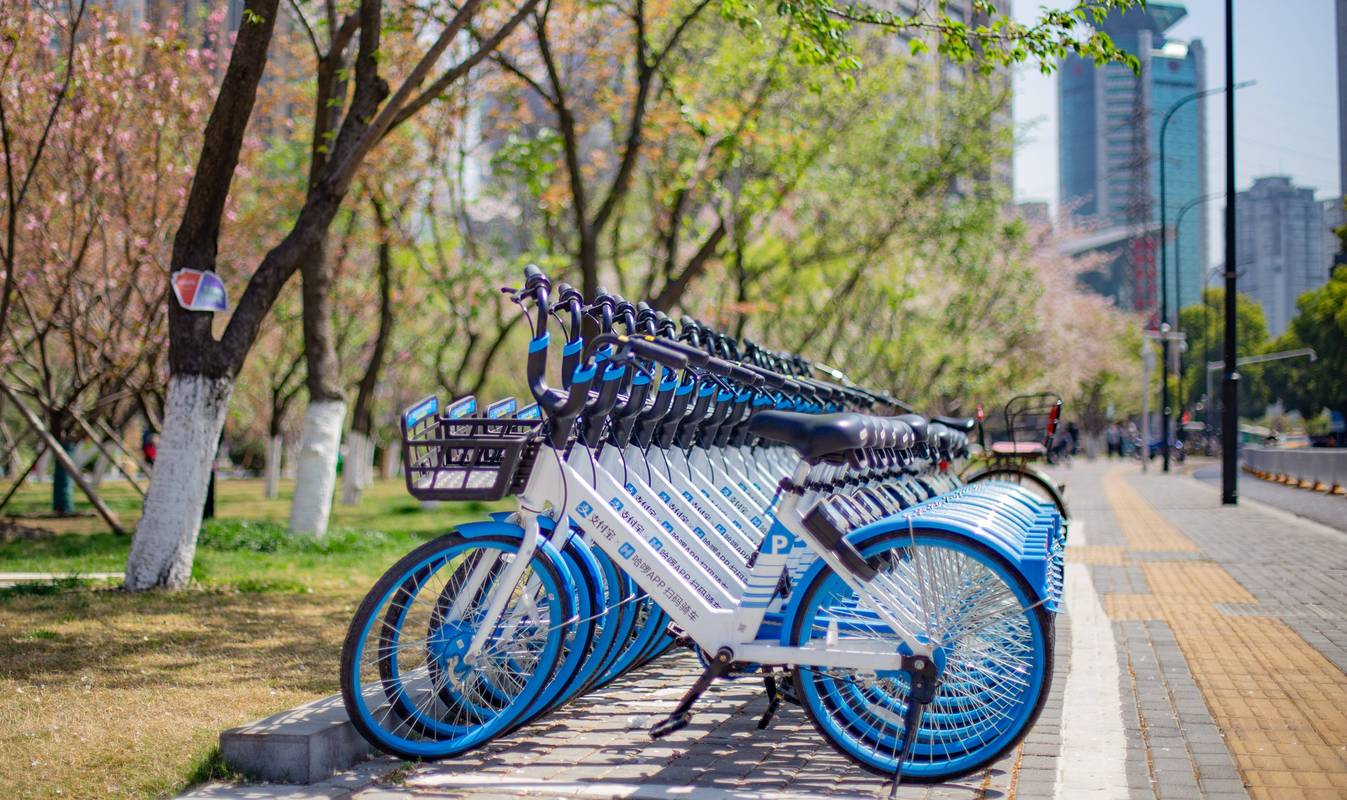单车: (332, 246, 1096, 800)
